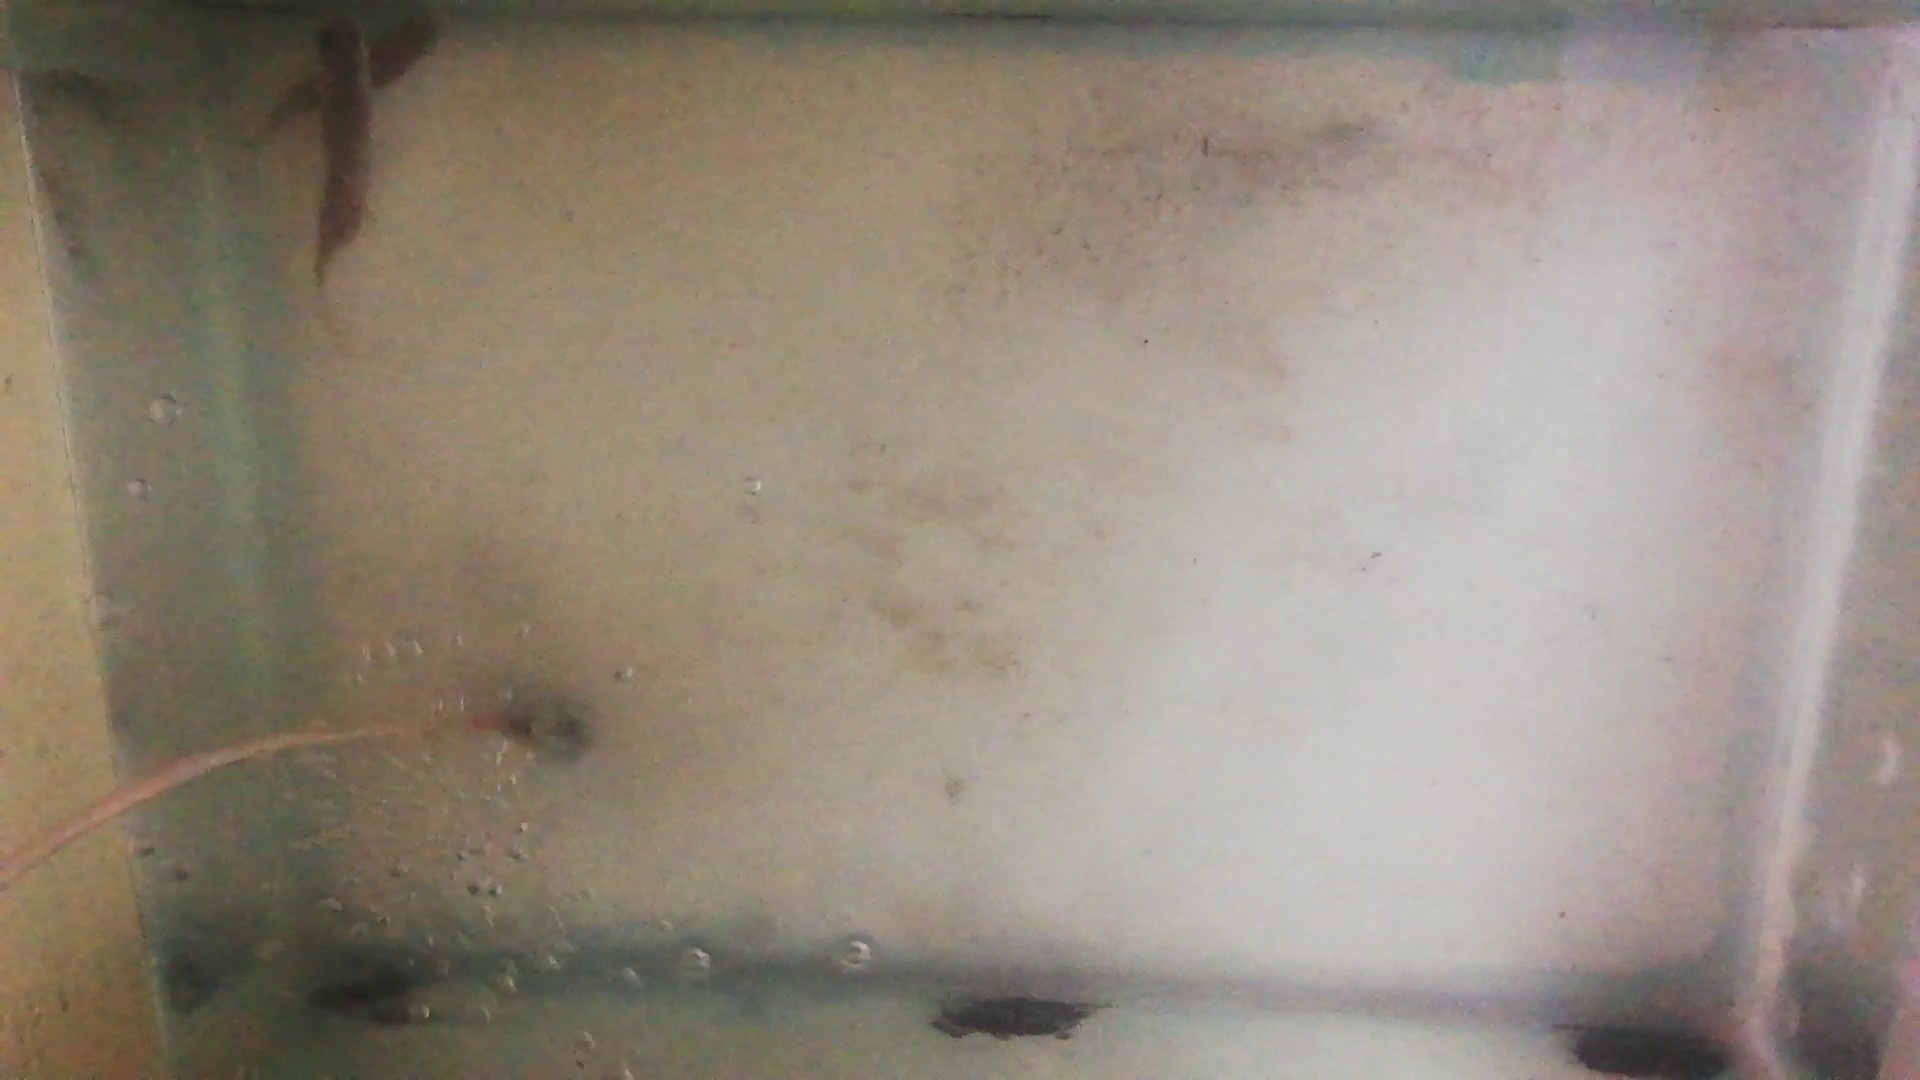fish: (260, 7, 439, 128), (307, 3, 380, 285)
